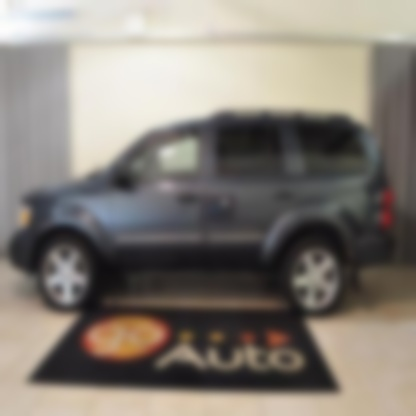Vehicle: (4, 98, 404, 377)
